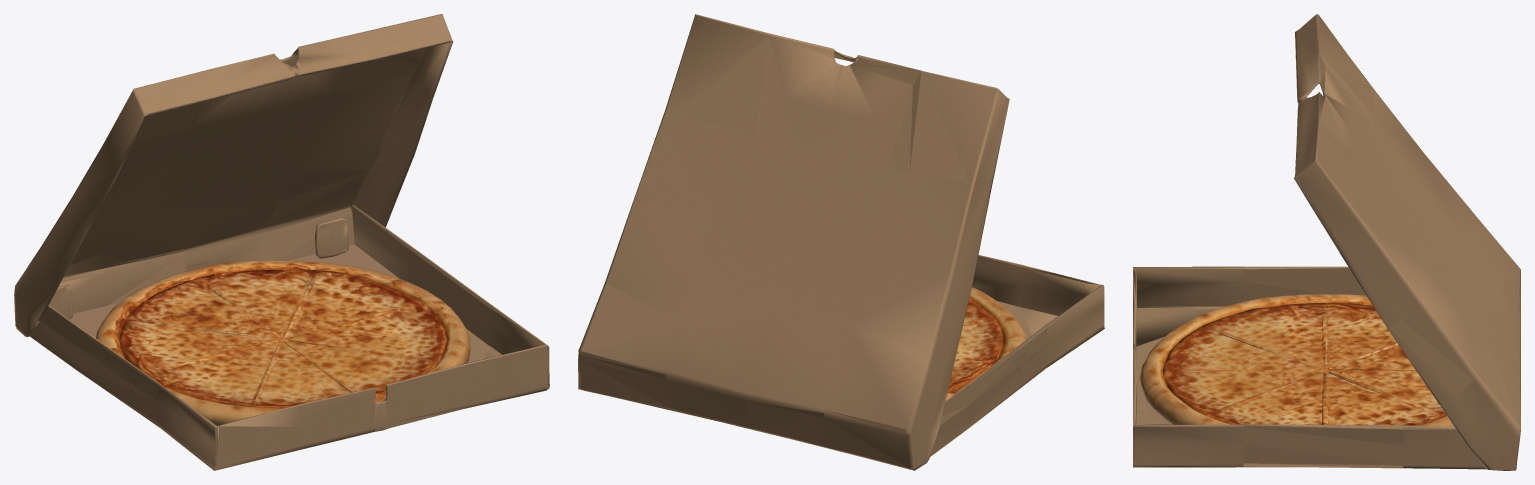
The model's file is OpenPizza.fbx.
The picture shows the model from 3 angles, left to right: view 1: azimuth 30°, elevation 25°; view 2: azimuth 150°, elevation 25°; view 3: azimuth 270°, elevation 25°; orthographic projection. The views are drawn at different scales.
Visible parts, largest first — view 1: mesh_node; view 2: mesh_node; view 3: mesh_node.
Part boxes in pixels (left/top/right/bottom): mesh_node: left=14, top=14, right=549, bottom=470; mesh_node: left=578, top=14, right=1104, bottom=470; mesh_node: left=1133, top=14, right=1520, bottom=470.
Size of the model in its own units: 99.8 by 86.52 by 100.
Materials: 1 (1 with a texture image).
